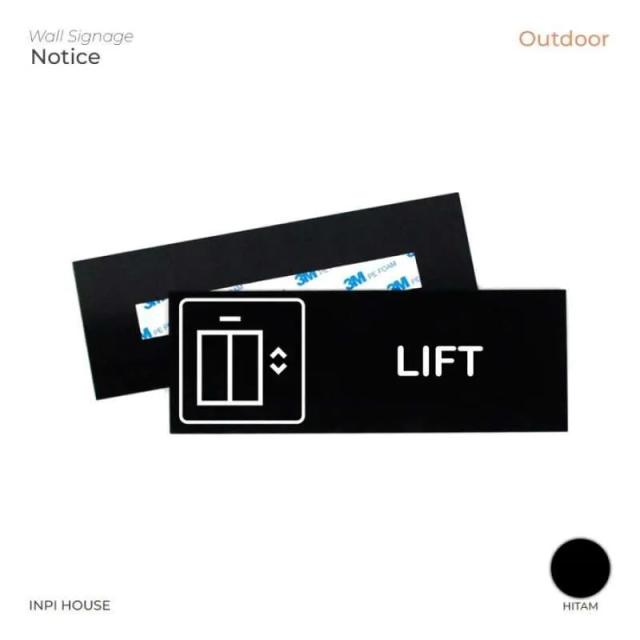lift_icon: (188, 305, 296, 416)
